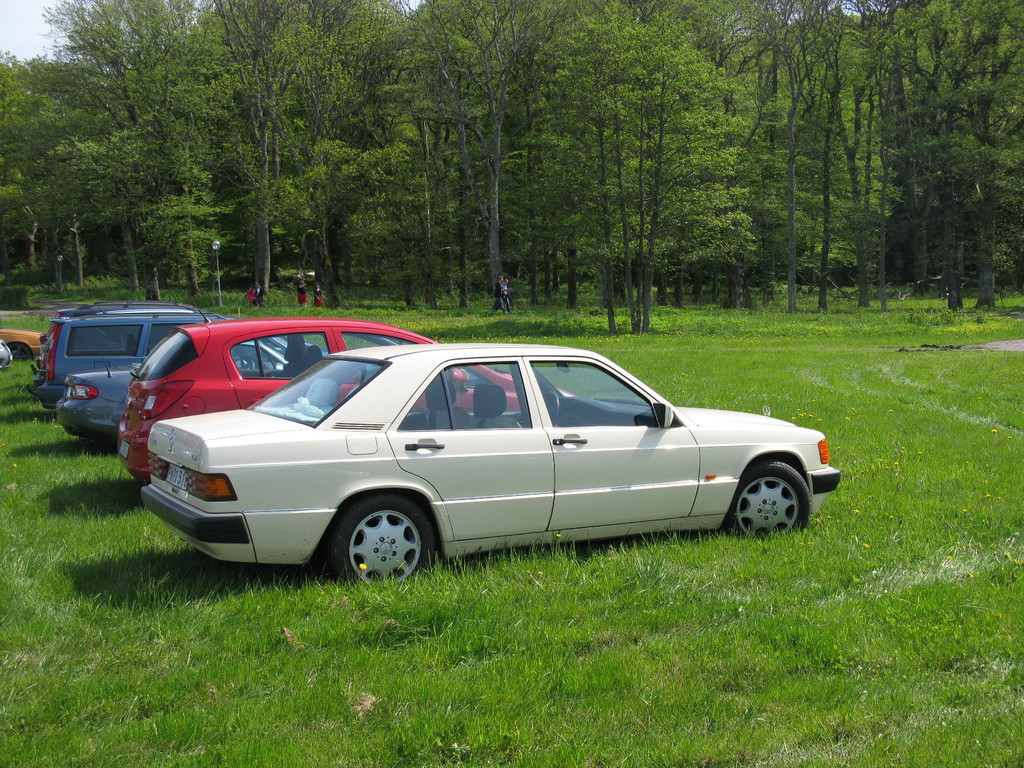Car: (138, 341, 846, 593), (112, 315, 570, 490), (20, 296, 296, 405), (50, 339, 292, 438), (0, 323, 48, 357), (0, 343, 20, 382)
